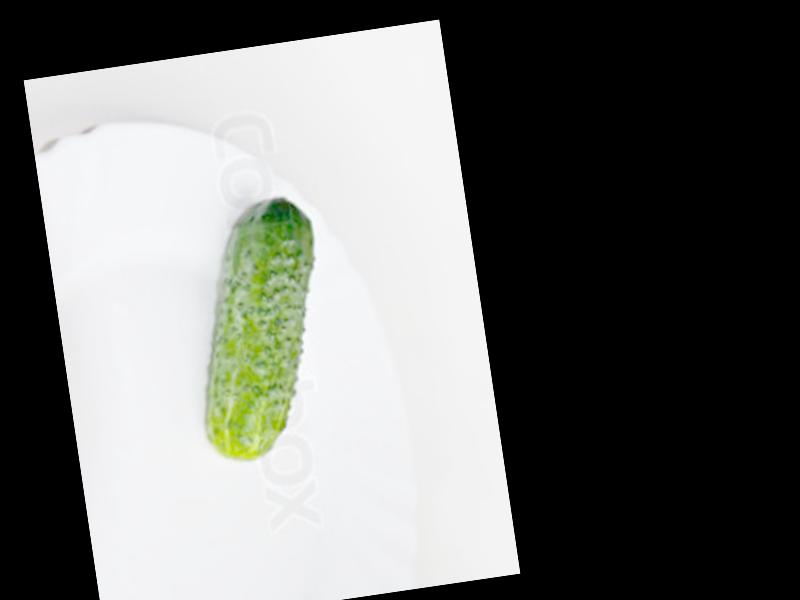Cucumber: (174, 196, 344, 464)
